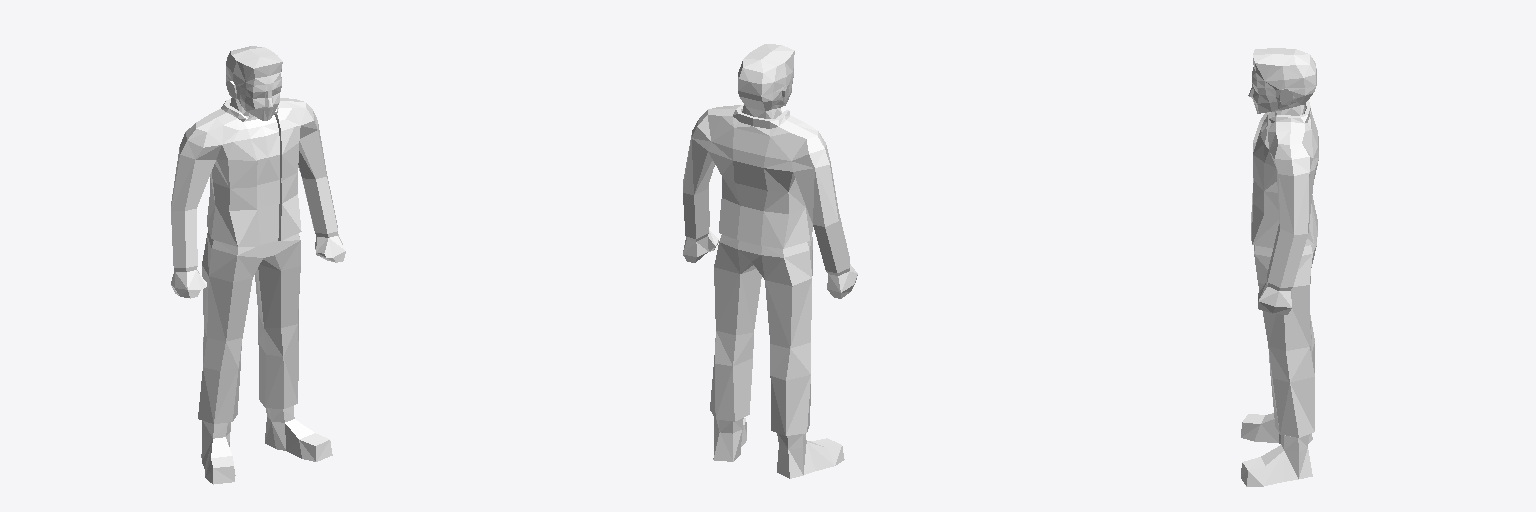
File: gh_mockup-male1.obj
The picture shows the model from 3 angles: view 1: azimuth 30°, elevation 25°; view 2: azimuth 150°, elevation 25°; view 3: azimuth 270°, elevation 25°; orthographic projection.
Visible parts, largest first — view 1: gh_mockup-male1; view 2: gh_mockup-male1; view 3: gh_mockup-male1.
Part boxes in pixels (left/top/right/bottom): gh_mockup-male1: left=171, top=46, right=345, bottom=484; gh_mockup-male1: left=683, top=44, right=857, bottom=478; gh_mockup-male1: left=1241, top=48, right=1318, bottom=486.
Size of the model in its own units: 0.2986 by 0.6865 by 0.1213.